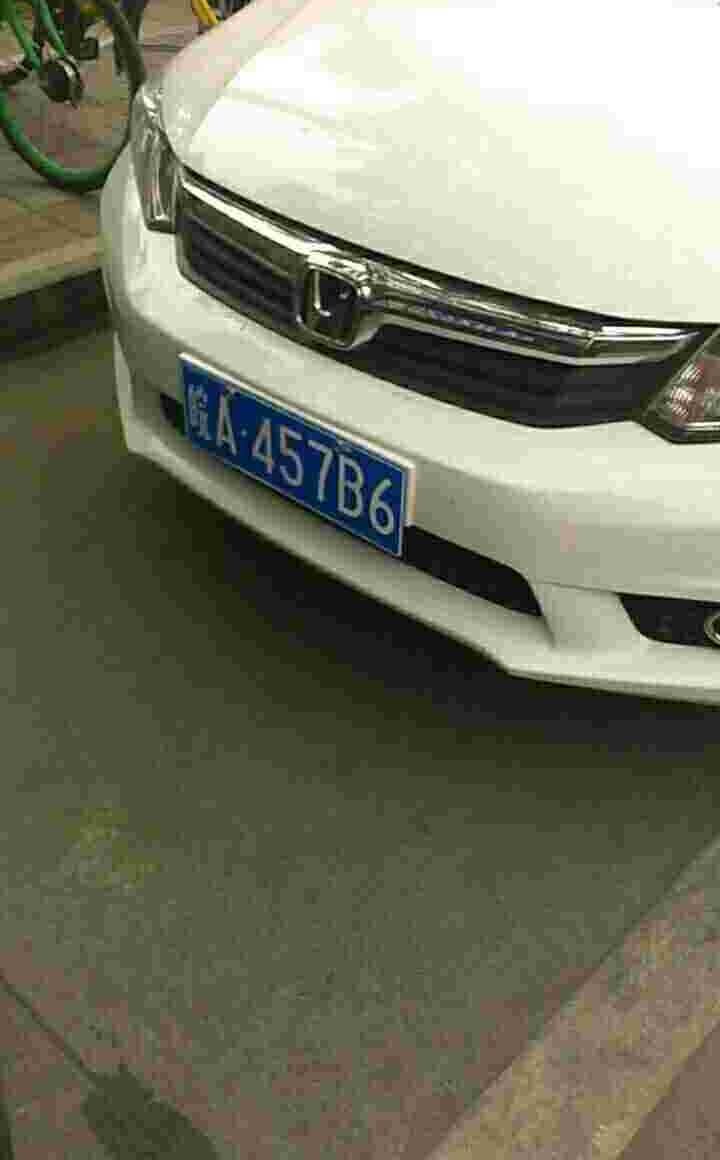license_plate: (177, 369, 417, 553)
